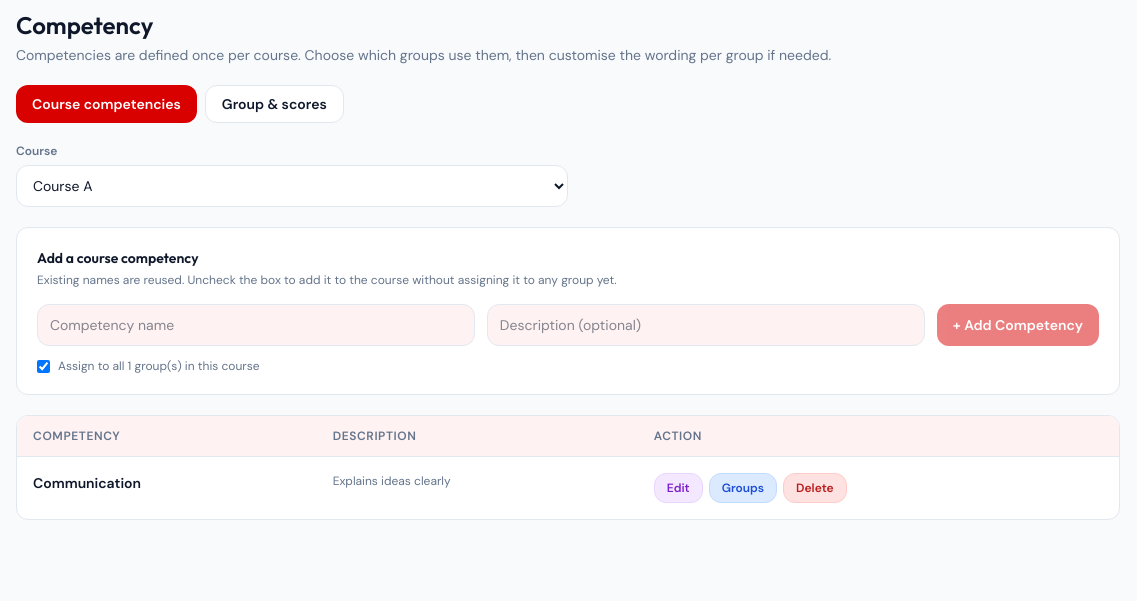
Test case: TeacherCompetency - current UI › does not save an edited course competency when the name is empty
The width and height of the screenshot is (1137, 601).
Click the button "Edit" at (678, 488), box [654,473,703,503]
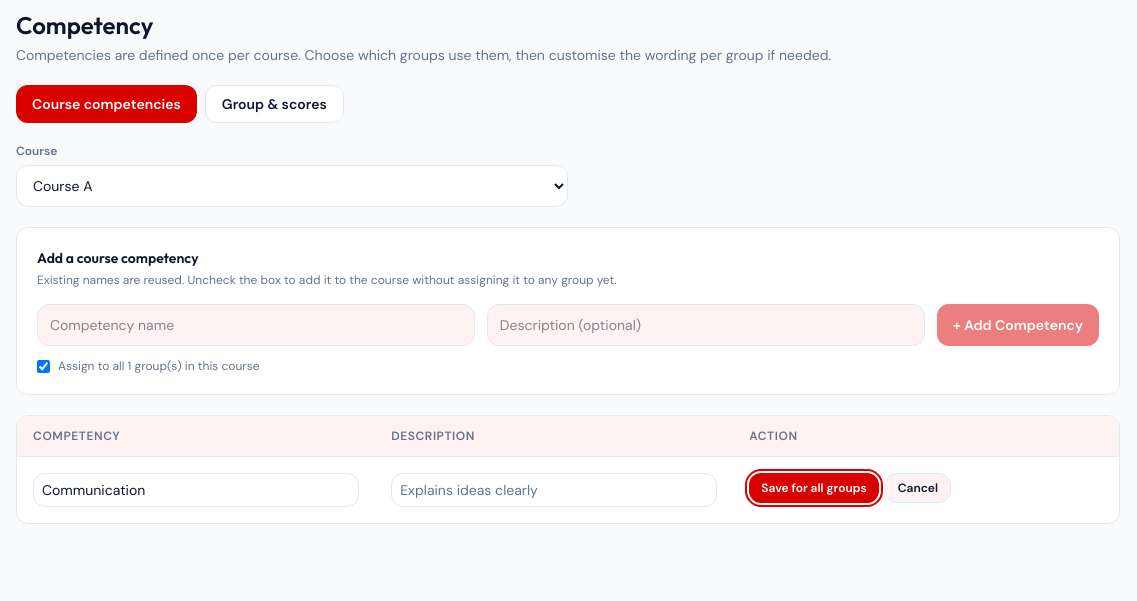
Clear the 1st field showing "Communication" at (196, 490), box [33,473,359,507]
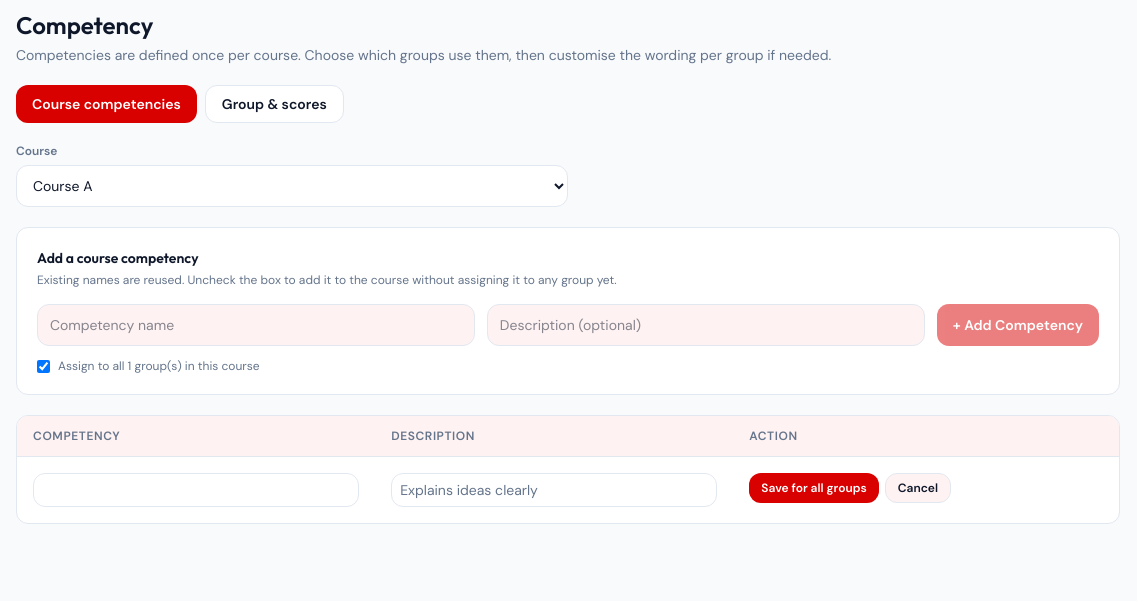
Click the button "Save for all groups" at (814, 488), box [749,473,879,503]
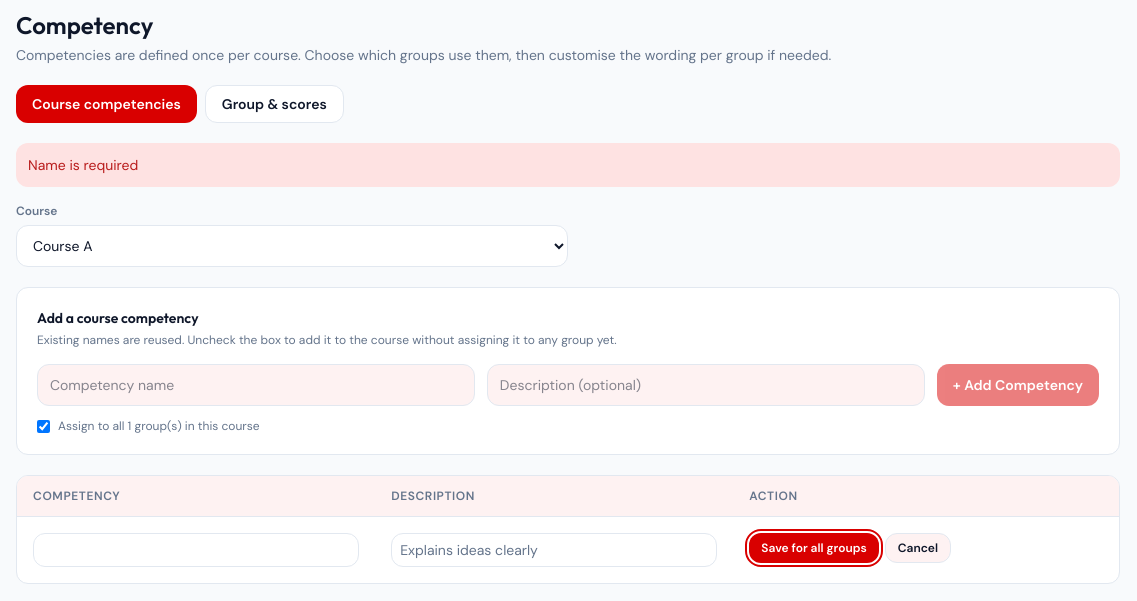
Now the text "Name is required" is shown, box [16,143,1120,187]
